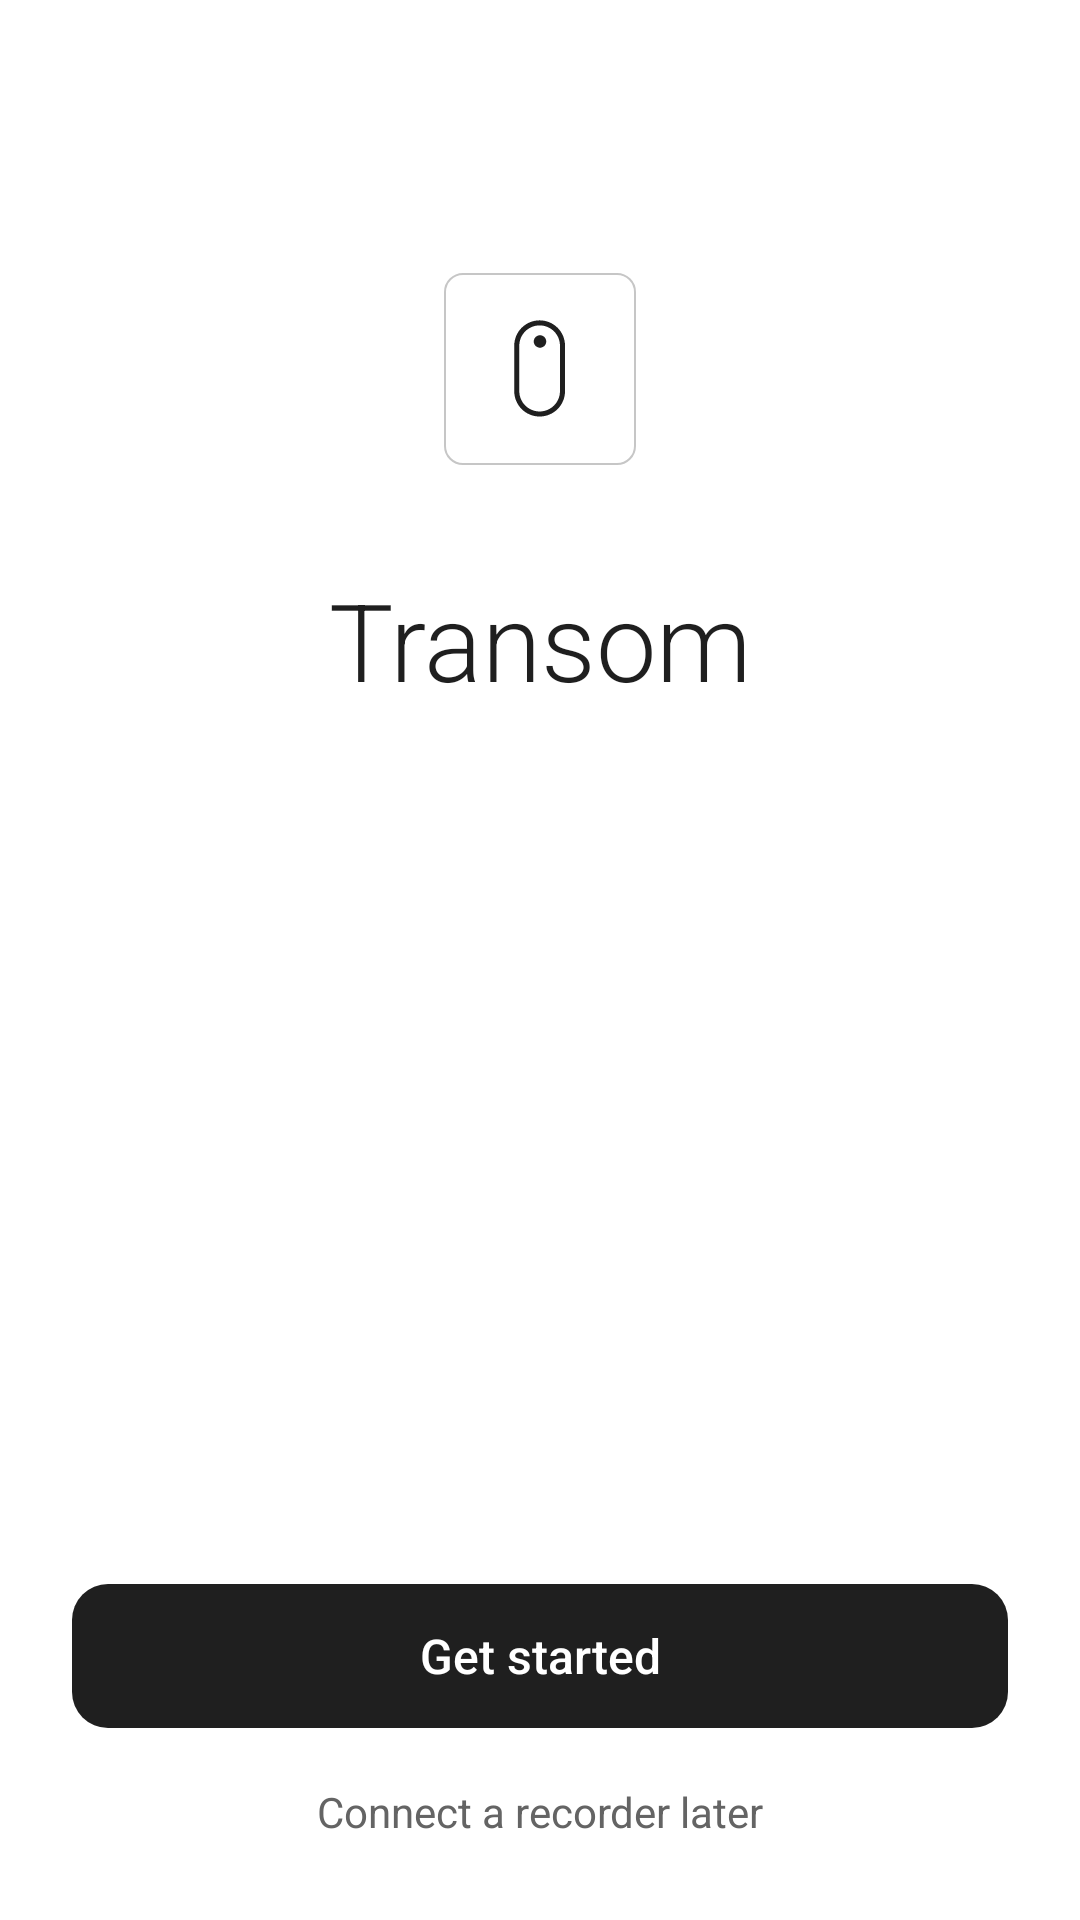

Locate icon controls on the screen. Image size 1080px x 1920px, boxes as region(x1, y1, x2, y2).
device: region(514, 320, 565, 417)
